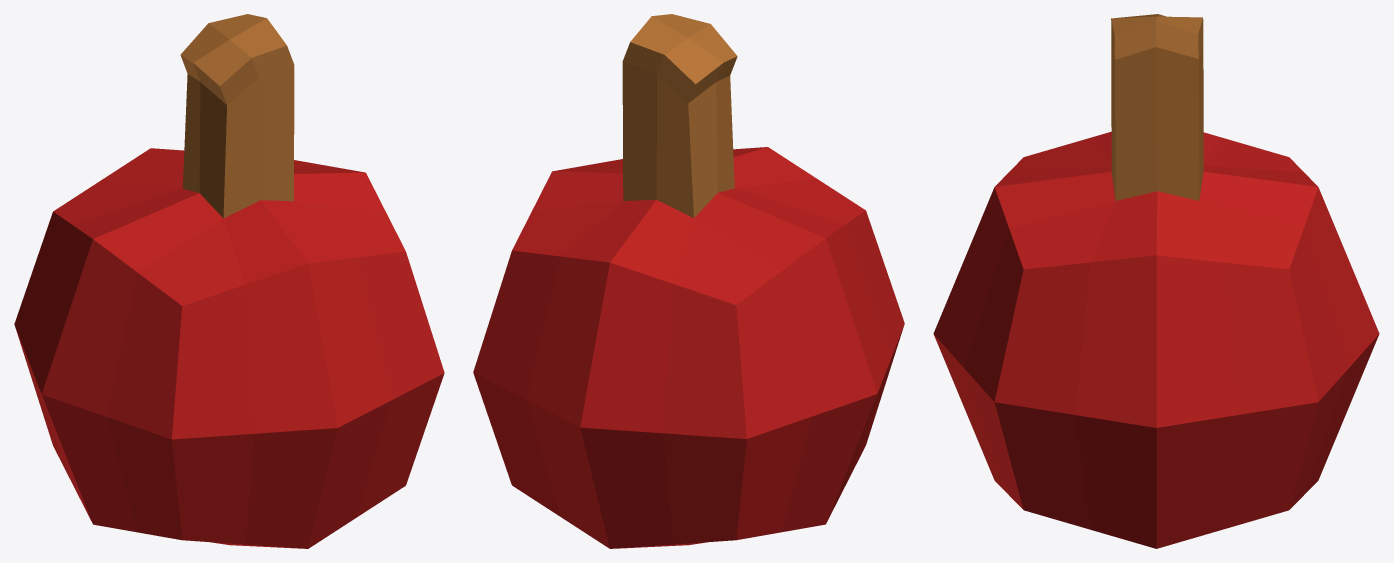
The model's file is obj_apple.fbx.
The picture shows the model from 3 angles, left to right: view 1: azimuth 30°, elevation 25°; view 2: azimuth 150°, elevation 25°; view 3: azimuth 270°, elevation 25°; orthographic projection. The views are drawn at different scales.
Parts seen in each view (by area): view 1: Obj_apple; view 2: Obj_apple; view 3: Obj_apple.
Part boxes in pixels (<box>): Obj_apple: <box>14,14,444,548</box>; Obj_apple: <box>473,14,904,548</box>; Obj_apple: <box>933,14,1379,548</box>.
Size of the model in its own units: 87.91 by 116 by 87.91.
